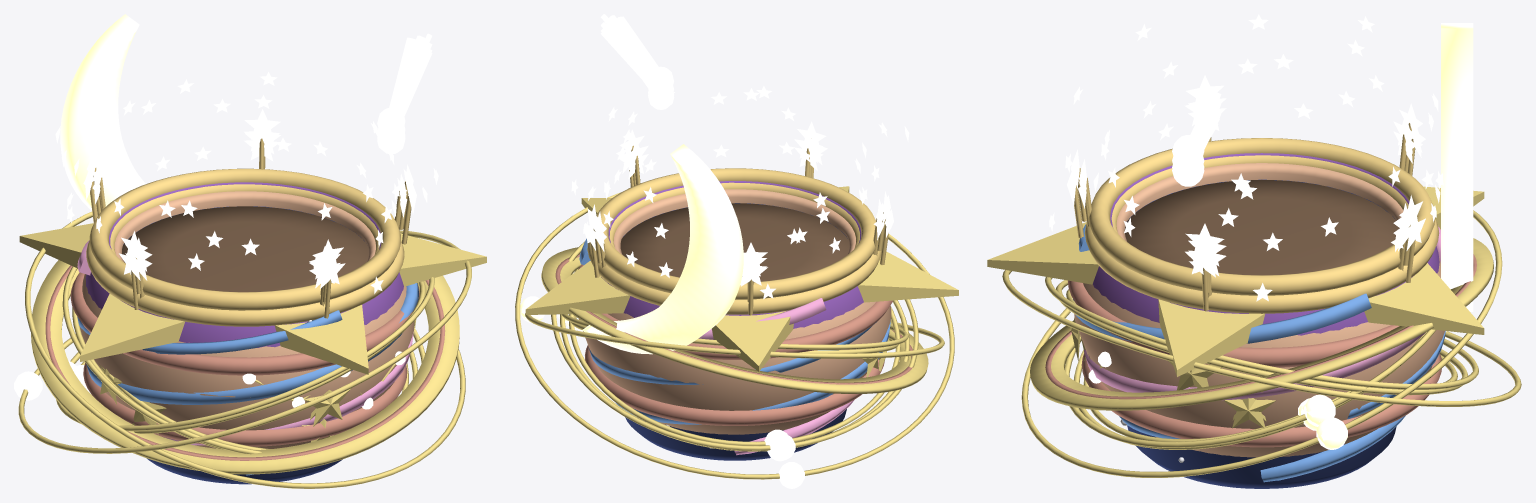
File: chau-thien-ha.glb
The picture shows the model from 3 angles, left to right: view 1: azimuth 30°, elevation 25°; view 2: azimuth 150°, elevation 25°; view 3: azimuth 270°, elevation 25°; orthographic projection. The views are drawn at different scales.
Visible parts, largest first — view 1: ChauTH_2_Than, ChauTH_4_Lv6, ChauTH_4_Dat, ChauTH_3_Than, ChauTH_4_Than, ChauTH_1_Than, ChauTH_1_Lv6, ChauTH_2_Lv6, ChauTH_2_Lv4, ChauTH_2_Lv5, ChauTH_3_Lv6, ChauTH_4_Lv5 (+5 smaller); view 2: ChauTH_2_Than, ChauTH_4_Lv6, ChauTH_1_Than, ChauTH_3_Than, ChauTH_4_Dat, ChauTH_2_Lv6, ChauTH_1_Lv6, ChauTH_4_Than, ChauTH_3_Lv6, ChauTH_2_Lv5, ChauTH_2_Lv4, ChauTH_4_Lv5 (+3 smaller); view 3: ChauTH_2_Than, ChauTH_4_Lv6, ChauTH_4_Dat, ChauTH_1_Than, ChauTH_3_Than, ChauTH_4_Than, ChauTH_1_Lv6, ChauTH_2_Lv6, ChauTH_2_Lv4, ChauTH_3_Lv6, ChauTH_2_Lv5, ChauTH_4_Lv4 (+6 smaller).
Part boxes in pixels (x1,y1,x2,y2): ChauTH_2_Than: [31, 191, 459, 474]; ChauTH_4_Lv6: [55, 33, 438, 452]; ChauTH_4_Dat: [122, 206, 368, 292]; ChauTH_3_Than: [19, 206, 486, 374]; ChauTH_4_Than: [77, 182, 418, 475]; ChauTH_1_Than: [60, 14, 342, 484]; ChauTH_1_Lv6: [75, 49, 432, 448]; ChauTH_2_Lv6: [14, 43, 471, 488]; ChauTH_2_Lv4: [25, 211, 465, 488]; ChauTH_2_Lv5: [14, 235, 471, 453]; ChauTH_3_Lv6: [61, 53, 432, 449]; ChauTH_4_Lv5: [56, 277, 433, 431]; ChauTH_2_Than: [541, 189, 928, 434]; ChauTH_4_Lv6: [552, 14, 918, 460]; ChauTH_1_Than: [582, 144, 846, 460]; ChauTH_3_Than: [525, 186, 958, 448]; ChauTH_4_Dat: [620, 203, 849, 282]; ChauTH_2_Lv6: [515, 22, 954, 488]; ChauTH_1_Lv6: [560, 28, 908, 460]; ChauTH_4_Than: [579, 181, 890, 455]; ChauTH_3_Lv6: [569, 32, 900, 445]; ChauTH_2_Lv5: [515, 192, 954, 488]; ChauTH_2_Lv4: [520, 297, 944, 358]; ChauTH_4_Lv5: [551, 241, 918, 460]; ChauTH_2_Than: [1030, 163, 1493, 457]; ChauTH_4_Lv6: [1045, 16, 1478, 447]; ChauTH_4_Dat: [1124, 179, 1398, 275]; ChauTH_1_Than: [1120, 23, 1473, 488]; ChauTH_3_Than: [987, 179, 1484, 376]; ChauTH_4_Than: [1073, 153, 1445, 482]; ChauTH_1_Lv6: [1058, 93, 1468, 449]; ChauTH_2_Lv6: [1004, 14, 1520, 477]; ChauTH_2_Lv4: [1021, 210, 1502, 477]; ChauTH_3_Lv6: [1066, 40, 1457, 441]; ChauTH_2_Lv5: [1002, 270, 1521, 446]; ChauTH_4_Lv4: [1064, 329, 1436, 447].
Size of the model in its own units: 1.45 by 1.29 by 1.48.
